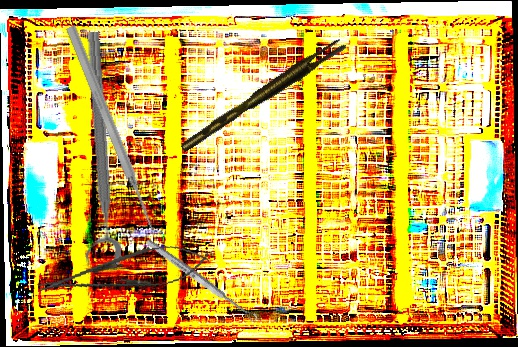Fixation Ring: (67, 30, 123, 268)
Needle Holder: (34, 237, 213, 307)
Pusher: (63, 24, 160, 235)
Surgical Spoon: (144, 237, 259, 324)
Tissue Forceps: (174, 36, 351, 153)
